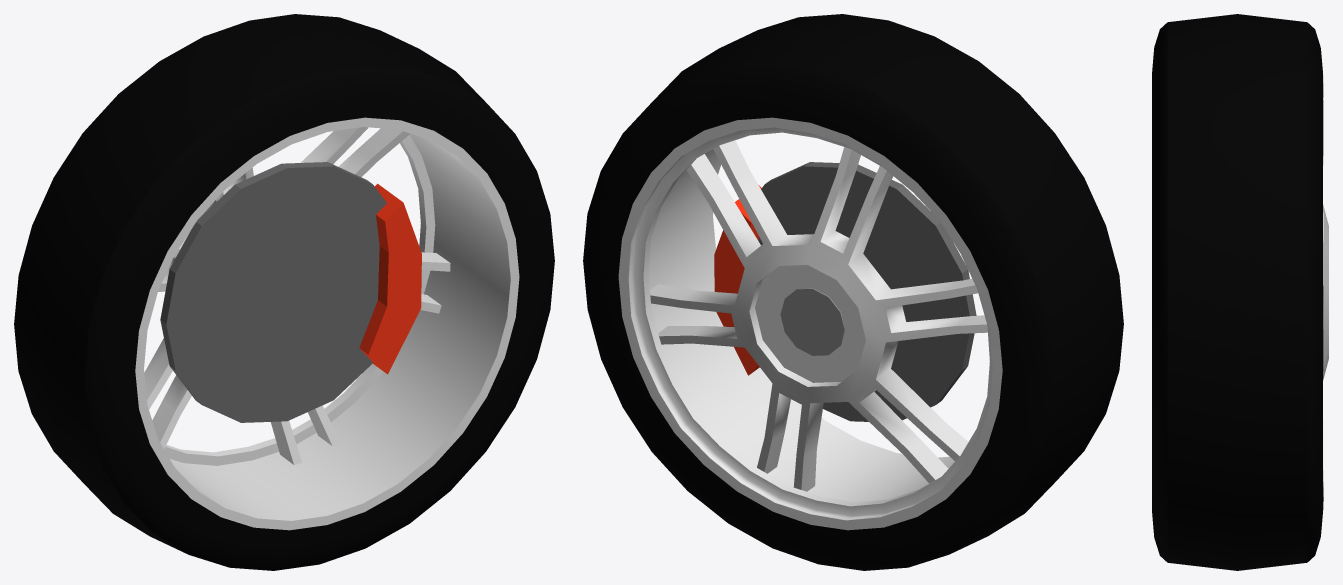
Rendered from tire_sport.glb.
The picture shows the model from 3 angles, left to right: view 1: azimuth 30°, elevation 25°; view 2: azimuth 150°, elevation 25°; view 3: azimuth 270°, elevation 25°; orthographic projection.
Visible parts, largest first — view 1: tire, rim, barke_disc, brake; view 2: tire, rim, barke_disc, front, brake; view 3: tire, rim.
Part boxes in pixels (x1=…): tire: x1=14, y1=14, x2=554, y2=570; rim: x1=135, y1=117, x2=519, y2=530; barke_disc: x1=160, y1=162, x2=386, y2=422; brake: x1=359, y1=183, x2=421, y2=374; tire: x1=583, y1=14, x2=1123, y2=570; rim: x1=618, y1=117, x2=1002, y2=530; barke_disc: x1=758, y1=162, x2=976, y2=421; front: x1=780, y1=288, x2=845, y2=355; brake: x1=714, y1=185, x2=761, y2=375; tire: x1=1152, y1=14, x2=1323, y2=570; rim: x1=1323, y1=75, x2=1328, y2=496.
Size of the model in its own units: 0.631 by 0.631 by 0.2.
